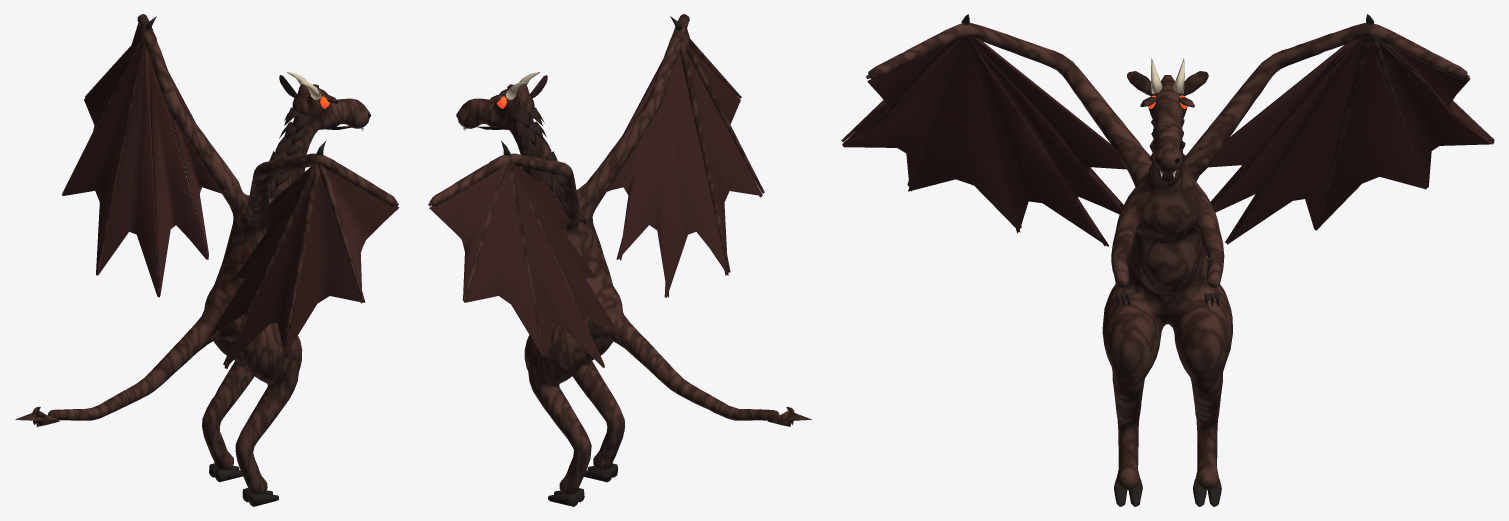
The model's file is jersey-devil.glb.
The picture shows the model from 3 angles, left to right: view 1: azimuth 30°, elevation 25°; view 2: azimuth 150°, elevation 25°; view 3: azimuth 270°, elevation 25°; orthographic projection. The views are drawn at different scales.
Parts seen in each view (by area): view 1: jersey-devil.001; view 2: jersey-devil.001; view 3: jersey-devil.001.
Part boxes in pixels (left/top/right/bottom): jersey-devil.001: left=15, top=14, right=399, bottom=506; jersey-devil.001: left=428, top=14, right=812, bottom=506; jersey-devil.001: left=841, top=14, right=1494, bottom=506.
Size of the model in its own units: 1.95 by 2.16 by 2.65.
10 materials, 1 textured.
